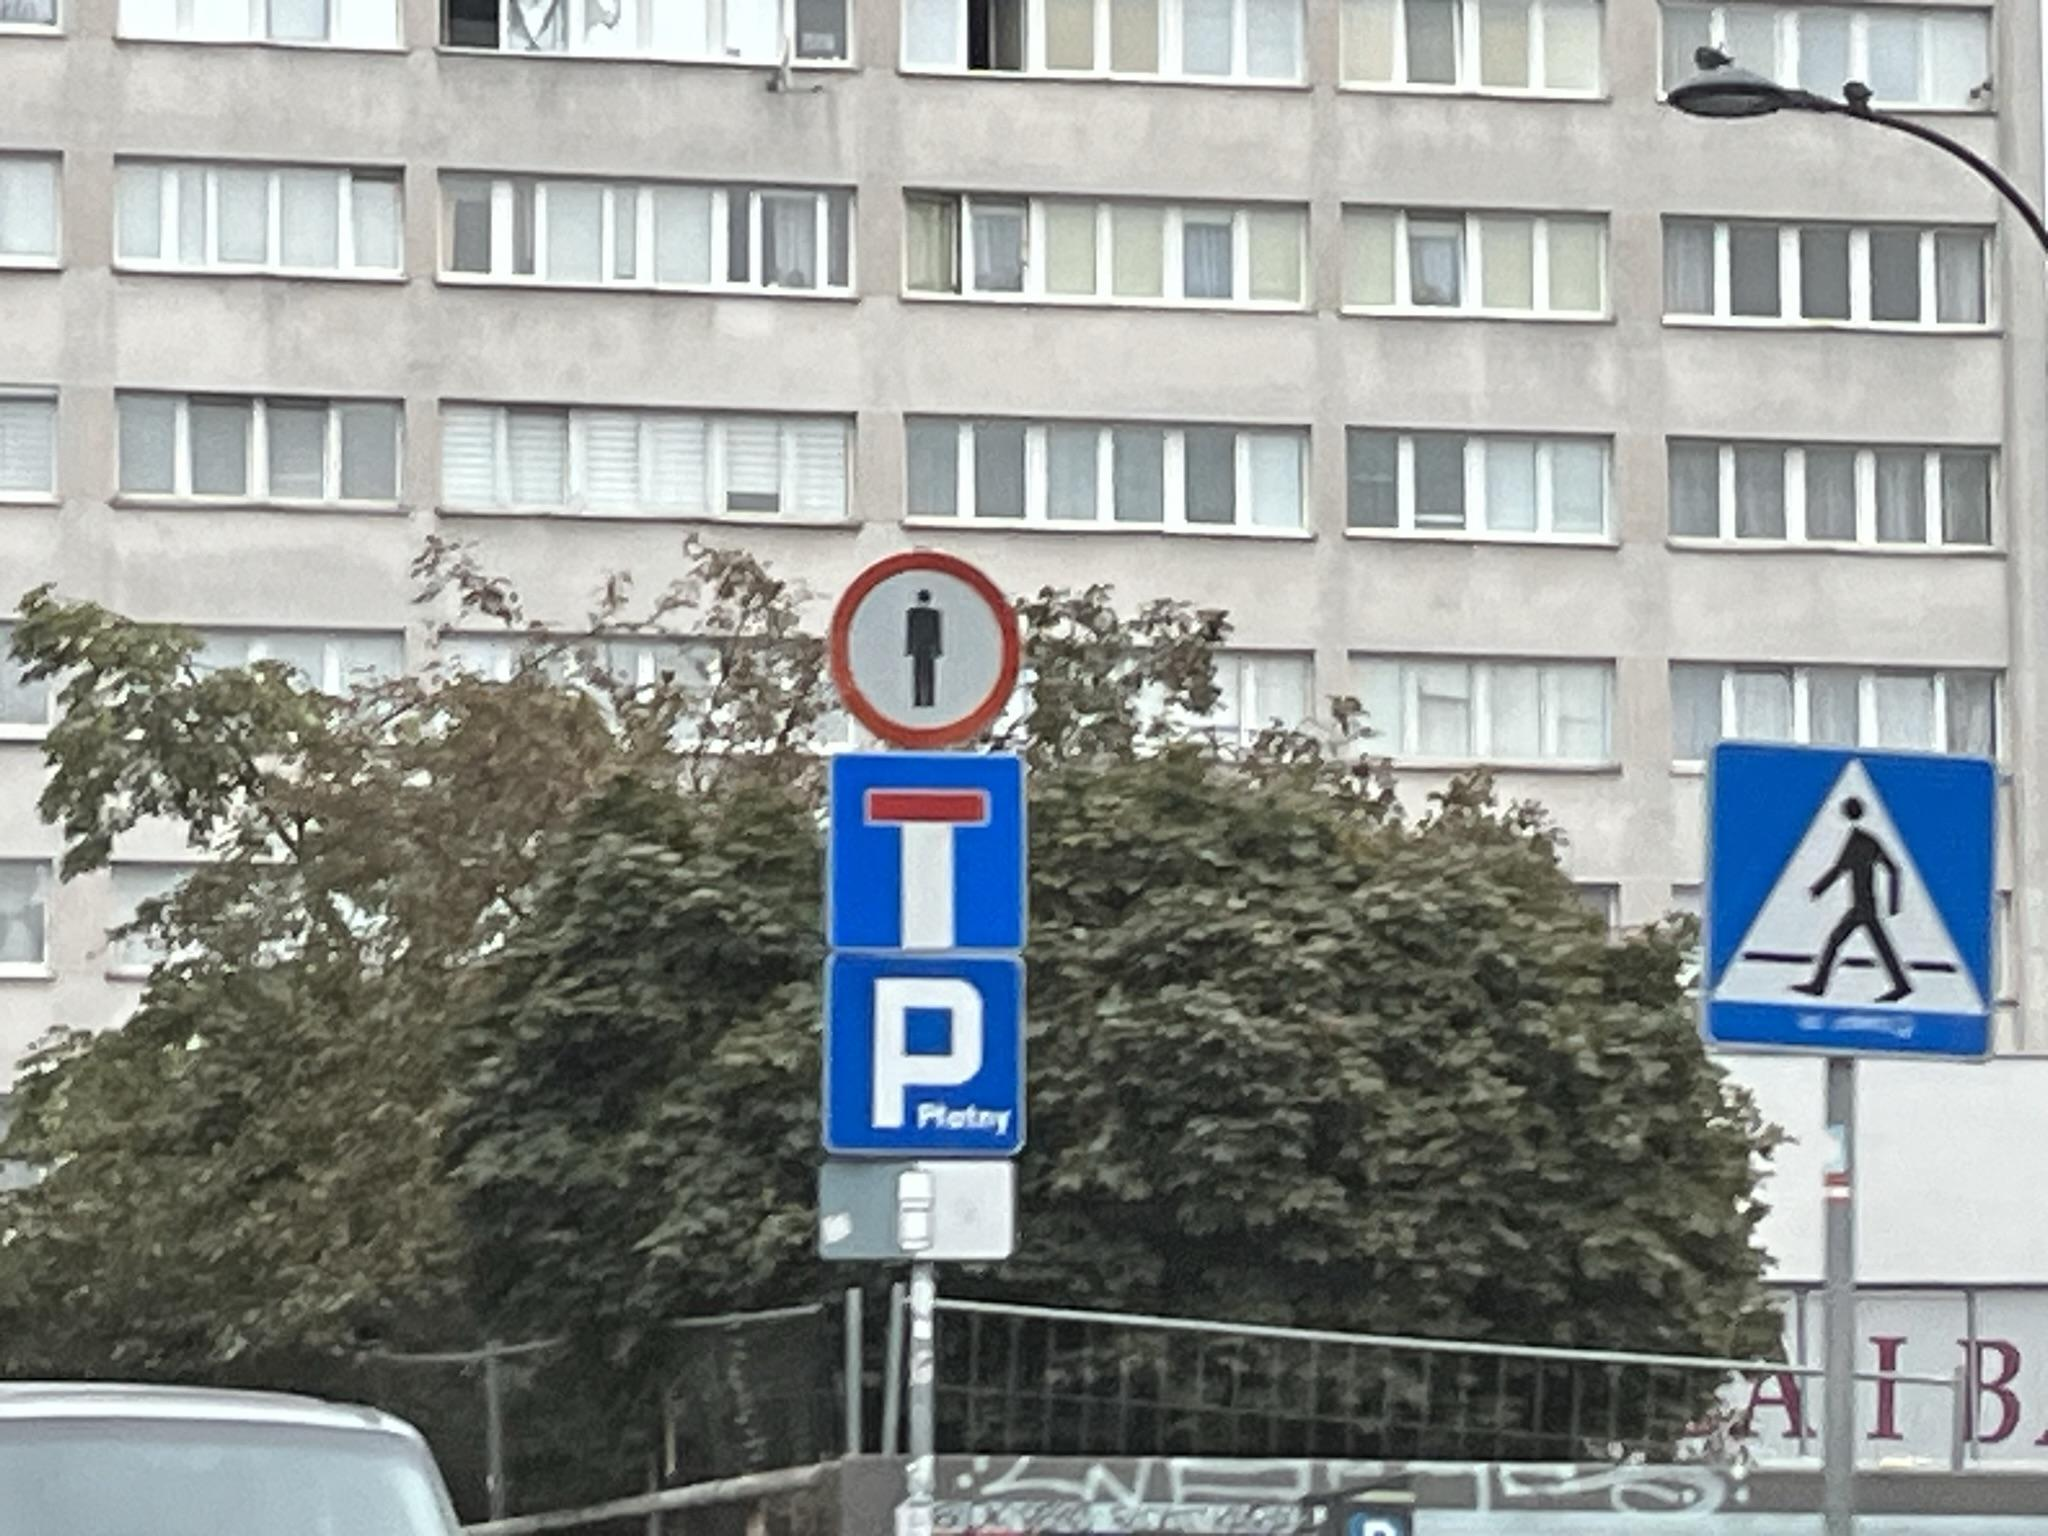information: (1702, 740, 1996, 1066), (824, 950, 1026, 1156), (828, 750, 1028, 954)
other: (816, 1156, 1018, 1262)
prohibitory: (826, 548, 1024, 752)
